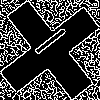I: (25, 25, 69, 64)
